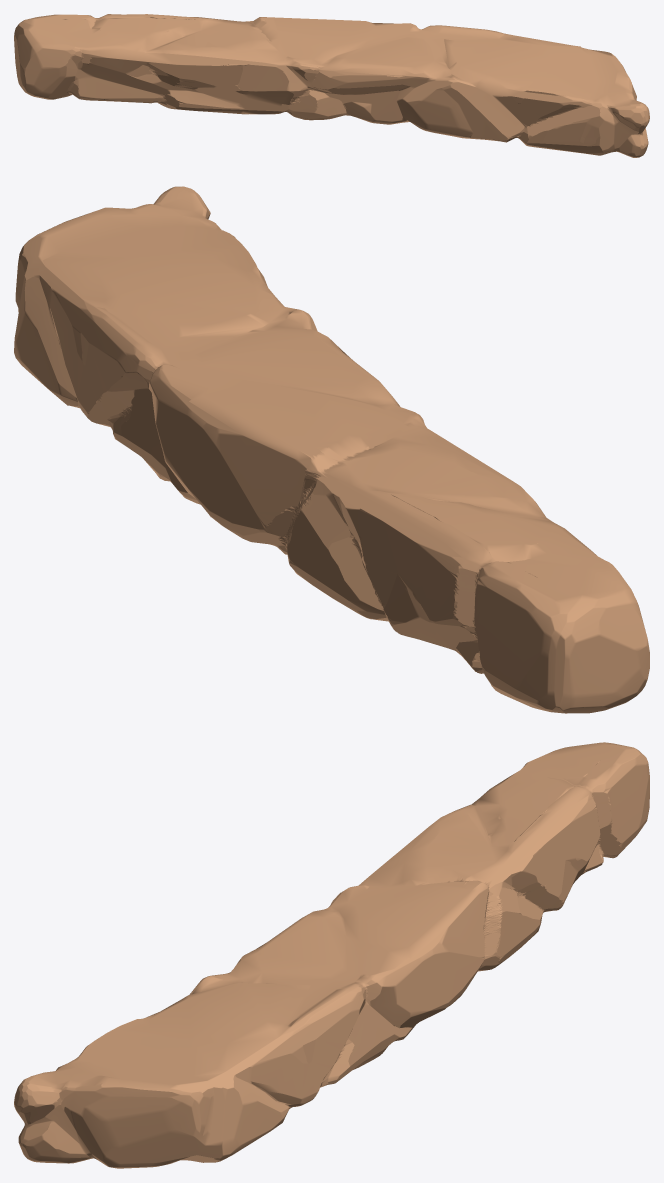
3 renders of one model, top to bottom at view 1: azimuth 30°, elevation 25°; view 2: azimuth 150°, elevation 25°; view 3: azimuth 270°, elevation 25°, orthographic. The views are drawn at different scales.
Visible parts, largest first — view 1: Mesh_30_LOD0; view 2: Mesh_30_LOD0; view 3: Mesh_30_LOD0.
Part boxes in pixels (box(x1,y1,x2,y2)): Mesh_30_LOD0: box(14, 14, 649, 157); Mesh_30_LOD0: box(14, 186, 649, 713); Mesh_30_LOD0: box(14, 742, 649, 1168).
Size of what is drawn, in the model's own units: 4624 by 869 by 3828.
